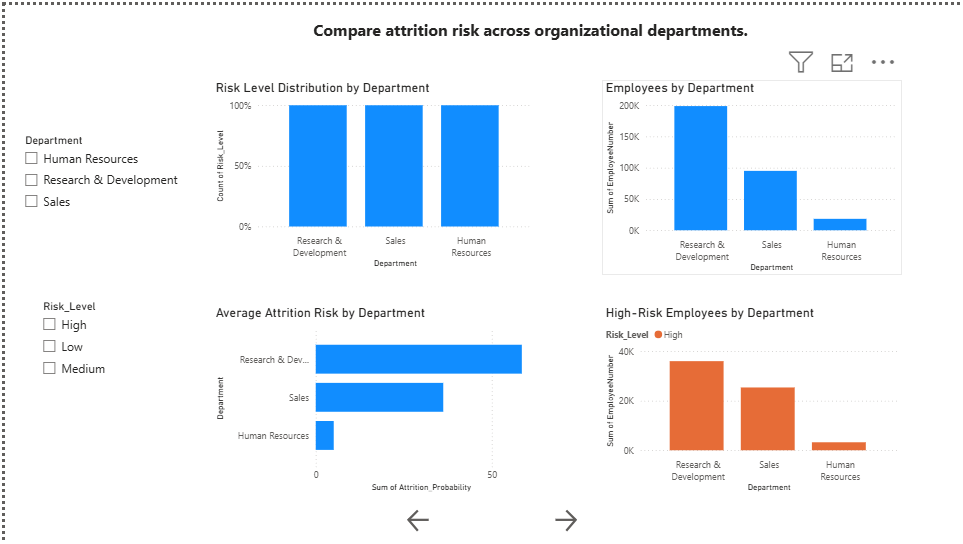

What the dashboard file says about the page in this screenshot:
{"tool":"powerbi","page":{"name":"Department Analytics","canvas":[1280,720],"ordinal":2},"visuals":[{"type":"slicer","fields":{"Values":["employee_attrition_risk_scores.Department"]},"box":[14.3,165.7,260,122.9],"z":0},{"type":"slicer","fields":{"Values":["employee_attrition_risk_scores.Risk_Level"]},"box":[38.3,388.3,120,138.3],"z":1000},{"type":"clusteredBarChart","title":"Average Attrition Risk by Department","fields":{"Category":["employee_attrition_risk_scores.Department"],"Y":["Sum(employee_attrition_risk_scores.Attrition_Probability)"]},"box":[275,400,431.7,253.3],"z":2000},{"type":"clusteredColumnChart","title":"Employees by Department","fields":{"Category":["employee_attrition_risk_scores.Department"],"Y":["Sum(employee_attrition_risk_scores.EmployeeNumber)"]},"box":[796.7,100,398.3,260],"z":3000},{"type":"hundredPercentStackedColumnChart","title":"Risk Level Distribution by Department","fields":{"Category":["employee_attrition_risk_scores.Department"],"Y":["CountNonNull(employee_attrition_risk_scores.Risk_Level)"]},"box":[275,100,431.7,255],"z":4000},{"type":"clusteredColumnChart","title":"High-Risk Employees by Department","fields":{"Category":["employee_attrition_risk_scores.Department"],"Y":["Sum(employee_attrition_risk_scores.EmployeeNumber)"],"Series":["employee_attrition_risk_scores.Risk_Level"]},"box":[796.7,400,398.3,253.3],"z":5000},{"type":"actionButton","box":[728.7,667.1,53.4,38.9],"z":6000},{"type":"actionButton","box":[532.7,667.1,53.4,38.9],"z":7000},{"type":"textbox","box":[406.7,11.7,600,56.7],"z":8000}]}

Visuals, with their boxes in screenshot pixels (x1, y1, x2, y2), scaled from the page's 1280x720 canvas onto the 963x544 screenshot:
slicer - employee_attrition_risk_scores.Department: (11,125,206,218)
slicer - employee_attrition_risk_scores.Risk_Level: (29,293,119,398)
"Average Attrition Risk by Department" clusteredBarChart: (207,302,532,494)
"Employees by Department" clusteredColumnChart: (599,76,899,272)
"Risk Level Distribution by Department" hundredPercentStackedColumnChart: (207,76,532,268)
"High-Risk Employees by Department" clusteredColumnChart: (599,302,899,494)
actionButton: (548,504,588,533)
actionButton: (401,504,441,533)
textbox: (306,9,757,52)
